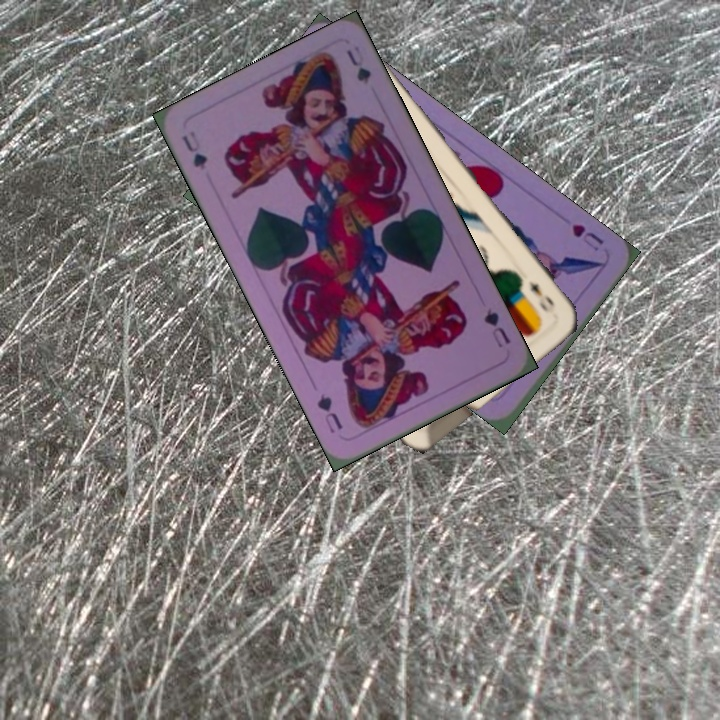EO: (524, 276, 558, 316)
GU: (479, 304, 514, 351), (178, 126, 210, 173)
HU: (567, 220, 607, 255)
